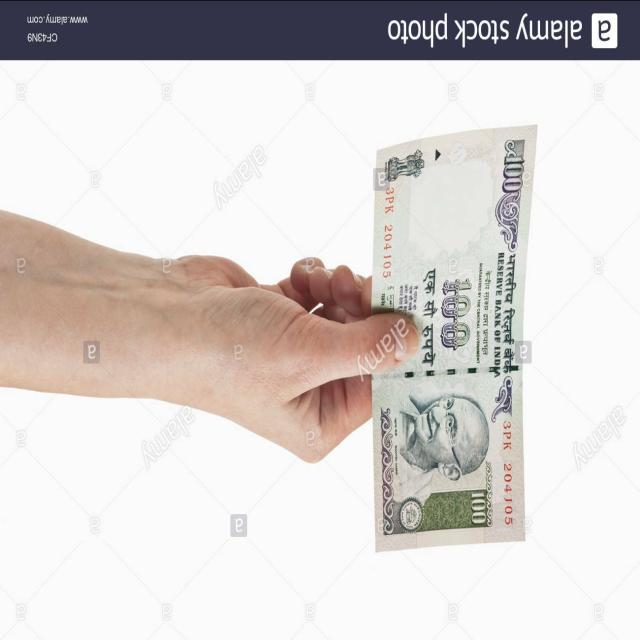100IndianRupees: (374, 121, 541, 554)
